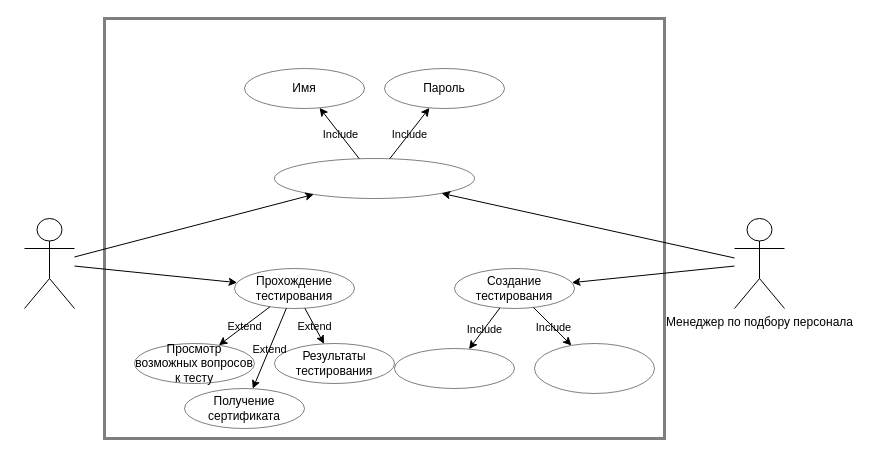
The diagram is 870 pixels wide and 457 high, and some of its shapes have lost their labels. Here are the shapes that lost their labels. From the top down, the centre of each, then its label:
[374,178]: Вход в систему
[49,263]: Сотрудники
[454,368]: Составление вопросов к тесту
[594,368]: Составление вариантов ответов к вопросам
